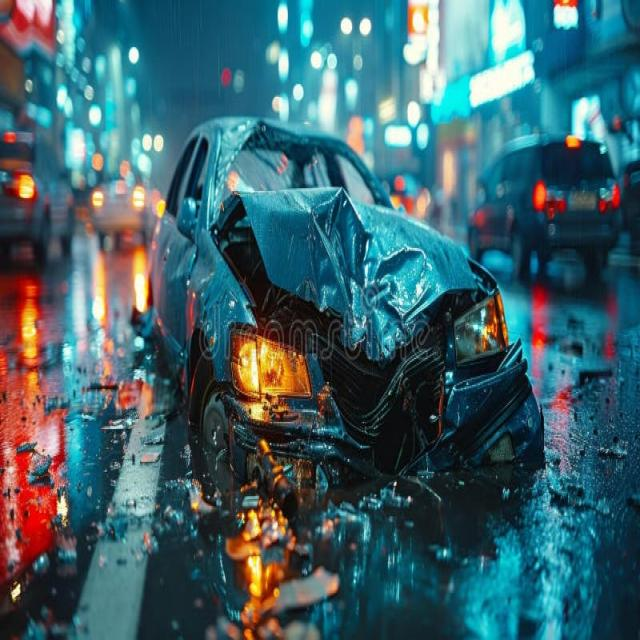Accident: (134, 110, 552, 533)
